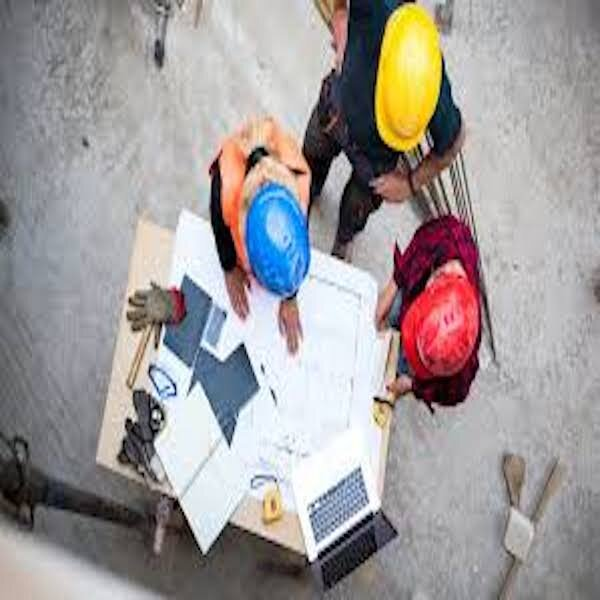helmet: (374, 6, 443, 142), (399, 273, 484, 383), (250, 186, 311, 288)
